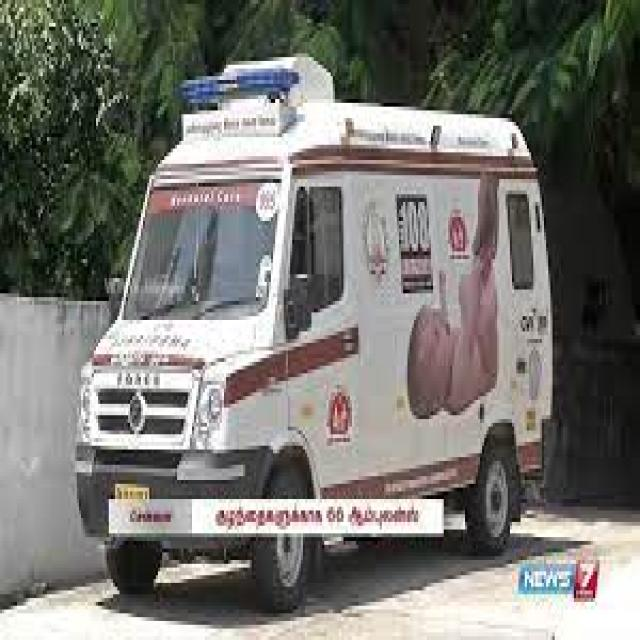ambulance: (77, 51, 556, 600)
